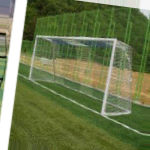goals: (28, 33, 134, 118)
